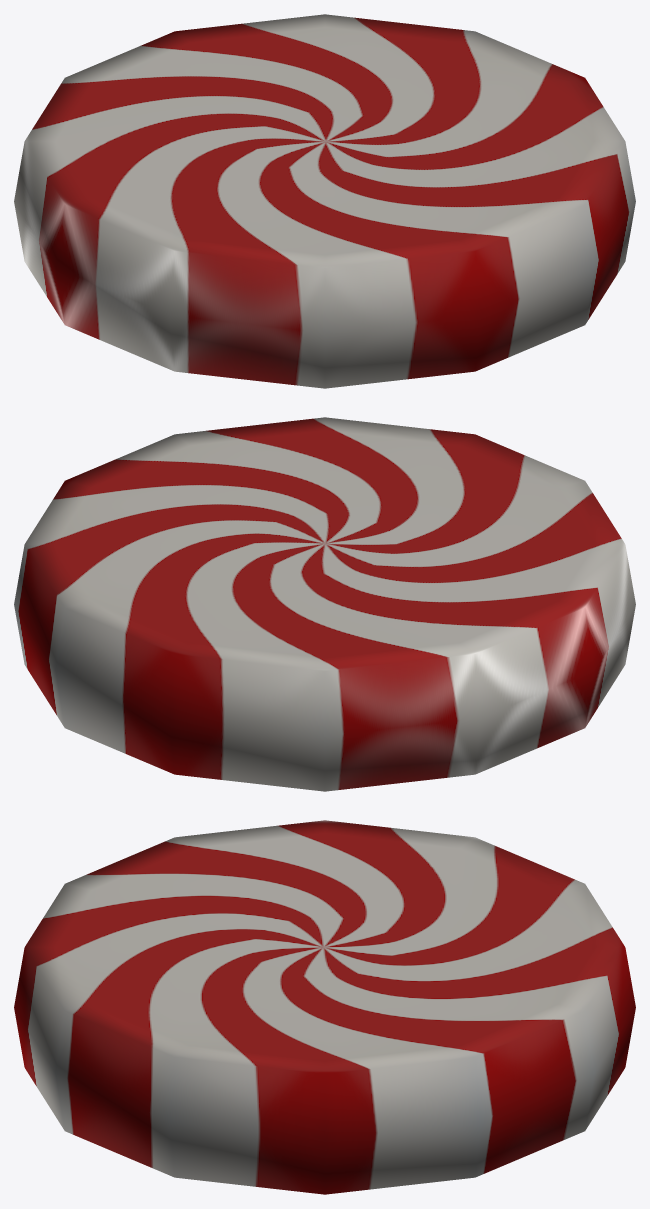
File: candy_02.fbx
3 views of the same model, one above another, from view 1: azimuth 30°, elevation 25°; view 2: azimuth 150°, elevation 25°; view 3: azimuth 270°, elevation 25° (orthographic).
Parts seen in each view (by area): view 1: candy_02; view 2: candy_02; view 3: candy_02.
Part boxes in pixels (<box>): candy_02: <box>14,14,635,388</box>; candy_02: <box>14,417,635,791</box>; candy_02: <box>14,820,635,1194</box>.
Bounding box in the file's own units: 0.8191 × 0.175 × 0.8191.
